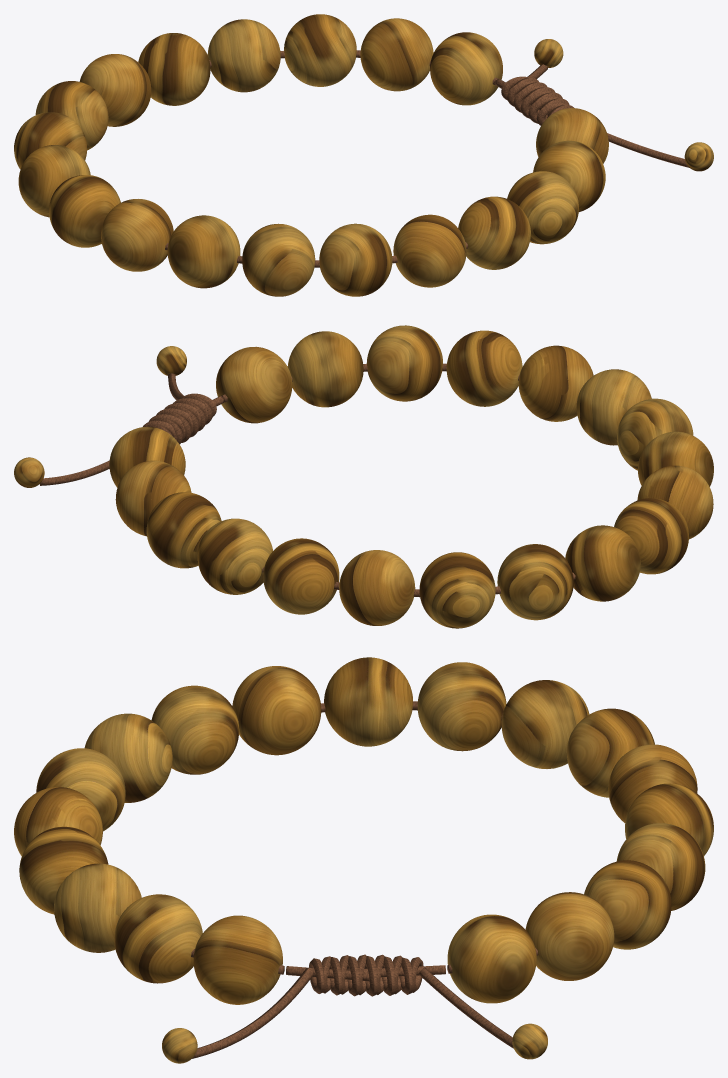
Rendered from tygrysie-oko.glb.
3 renders of one model, top to bottom at view 1: azimuth 30°, elevation 25°; view 2: azimuth 150°, elevation 25°; view 3: azimuth 270°, elevation 25°, orthographic. The views are drawn at different scales.
Parts seen in each view (by area): view 1: bead_round_1.004, bead_round_0.004, bead_round_0.001, bead_round_2.004, bead_round_1, bead_round_2.003, bead_round_2, bead_round_0, bead_round_1.003, bead_round_0.005, bead_round_1.001, bead_round_0.003 (+10 smaller); view 2: bead_round_1.005, bead_round_0.002, bead_round_1.002, bead_round_1.001, bead_round_2.001, bead_round_0.005, bead_round_0.006, bead_round_2.005, bead_round_2.002, bead_round_0.001, bead_round_2.004, bead_round_2 (+10 smaller); view 3: bead_round_0.006, bead_round_0.003, bead_round_0, bead_round_2.002, bead_round_1.003, bead_round_2.005, bead_round_1, bead_round_2.003, bead_round_1.002, bead_round_1.005, bead_round_2, bead_round_0.004 (+11 smaller).
Boxes of the visible parts, box(x1,y1,x2,y2) form: bead_round_1.004: box(319, 223, 392, 296); bead_round_0.004: box(242, 223, 315, 296); bead_round_0.001: box(207, 19, 280, 92); bead_round_2.004: box(393, 214, 466, 287); bead_round_1: box(360, 18, 433, 91); bead_round_2.003: box(167, 215, 240, 288); bead_round_2: box(284, 14, 356, 86); bead_round_0: box(430, 32, 502, 105); bead_round_1.003: box(101, 199, 173, 271); bead_round_0.005: box(458, 196, 530, 269); bead_round_1.001: box(138, 33, 210, 105); bead_round_0.003: box(49, 175, 120, 247); bead_round_1.005: box(366, 325, 442, 401); bead_round_0.002: box(419, 552, 495, 628); bead_round_1.002: box(497, 544, 573, 620); bead_round_1.001: box(263, 538, 339, 614); bead_round_2.001: box(339, 550, 415, 625); bead_round_0.005: box(446, 330, 522, 406); bead_round_0.006: box(216, 346, 292, 423); bead_round_2.005: box(287, 331, 363, 407); bead_round_2.002: box(565, 525, 640, 601); bead_round_0.001: box(197, 518, 272, 594); bead_round_2.004: box(518, 345, 593, 421); bead_round_2: box(146, 492, 221, 568); bead_round_0.006: box(193, 915, 282, 1004); bead_round_0.003: box(324, 657, 412, 746); bead_round_0: box(447, 914, 536, 1003); bead_round_2.002: box(417, 662, 506, 751); bead_round_1.003: box(232, 666, 321, 755); bead_round_2.005: box(114, 894, 202, 983); bead_round_1: box(525, 892, 614, 980); bead_round_2.003: box(151, 685, 239, 774); bead_round_1.002: box(501, 680, 589, 768); bead_round_1.005: box(54, 863, 141, 952); bead_round_2: box(584, 860, 671, 949); bead_round_0.004: box(84, 713, 172, 802).
Size of the model in its own units: 7.34 by 0.8022 by 6.28.
Materials: 4 (4 with a texture image).
